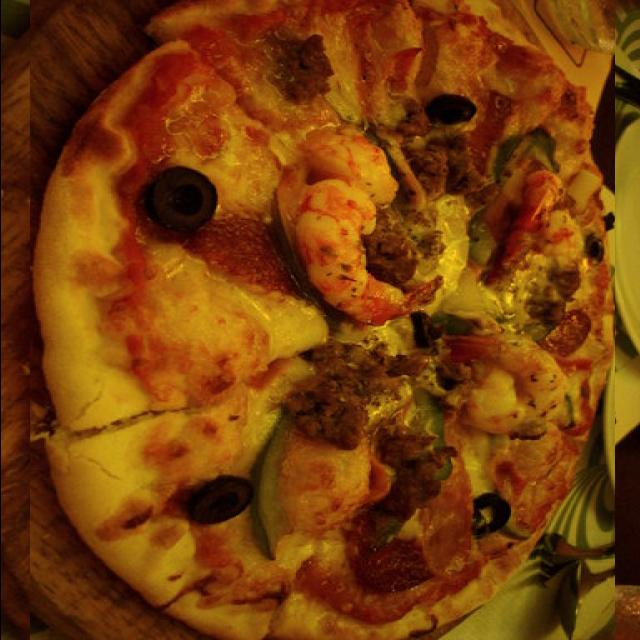olive: (146, 410, 215, 473), (187, 114, 253, 165), (470, 104, 508, 148), (422, 517, 475, 546), (409, 289, 435, 329)
pizza: (29, 0, 614, 640)
